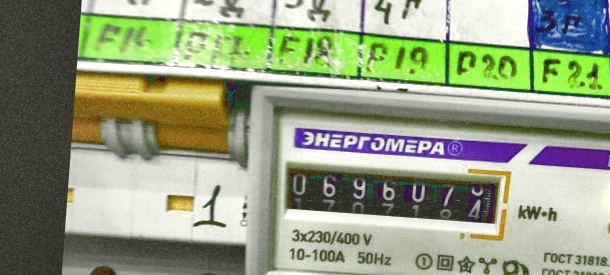0: (290, 170, 308, 195), (409, 176, 426, 202)
4: (465, 196, 483, 221)
6: (319, 172, 338, 197), (379, 175, 398, 200)
7: (439, 181, 456, 208)
9: (349, 174, 367, 199)
screen: (269, 146, 515, 238)
